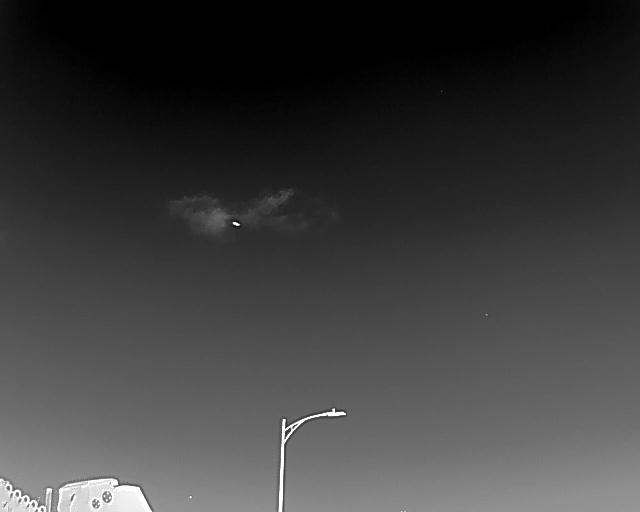fpv-drone: (232, 221, 240, 227)
